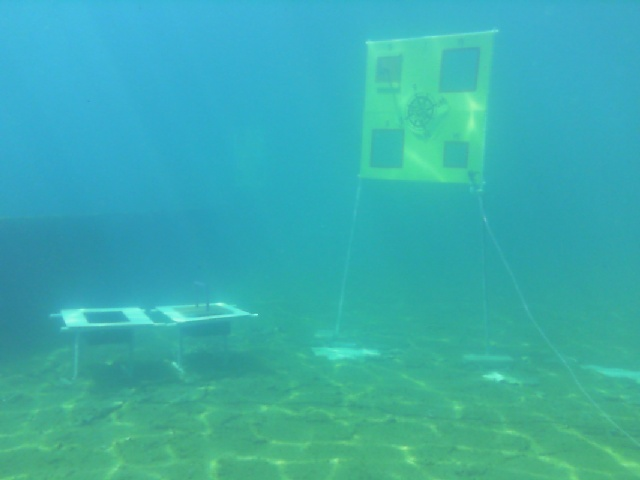bin: (158, 296, 256, 327), (59, 302, 152, 331)
bin_cover: (174, 278, 236, 323)
torpedo_cover: (371, 56, 406, 86)
torpedo_hole: (437, 48, 483, 93), (366, 128, 408, 173), (373, 54, 403, 93), (441, 141, 472, 171)
torpedo_target: (357, 35, 492, 192)
